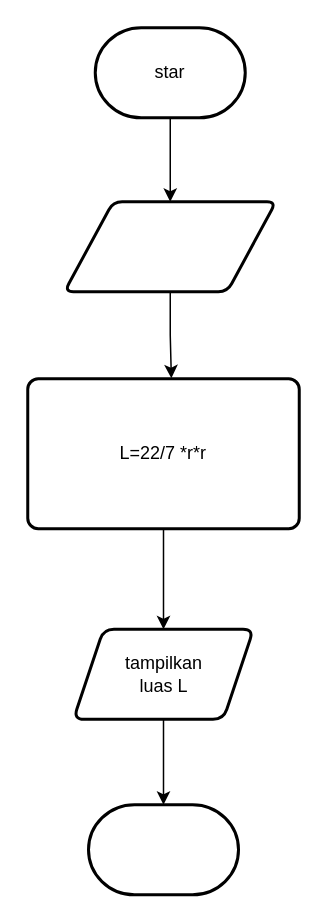
The diagram is 326 pixels wide and 921 high, and some of its shapes have lost their labels. The shapes that lost their labels are listed below. From the top down, each one's centre as x and y in pixels, then its label:
At point 169,246: "masukan jari jari r".
At point 162,849: "end".
